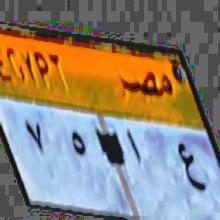5: (69, 122, 87, 167)
7: (25, 112, 44, 160)
ain: (176, 133, 206, 203)
alif: (124, 126, 142, 176)
